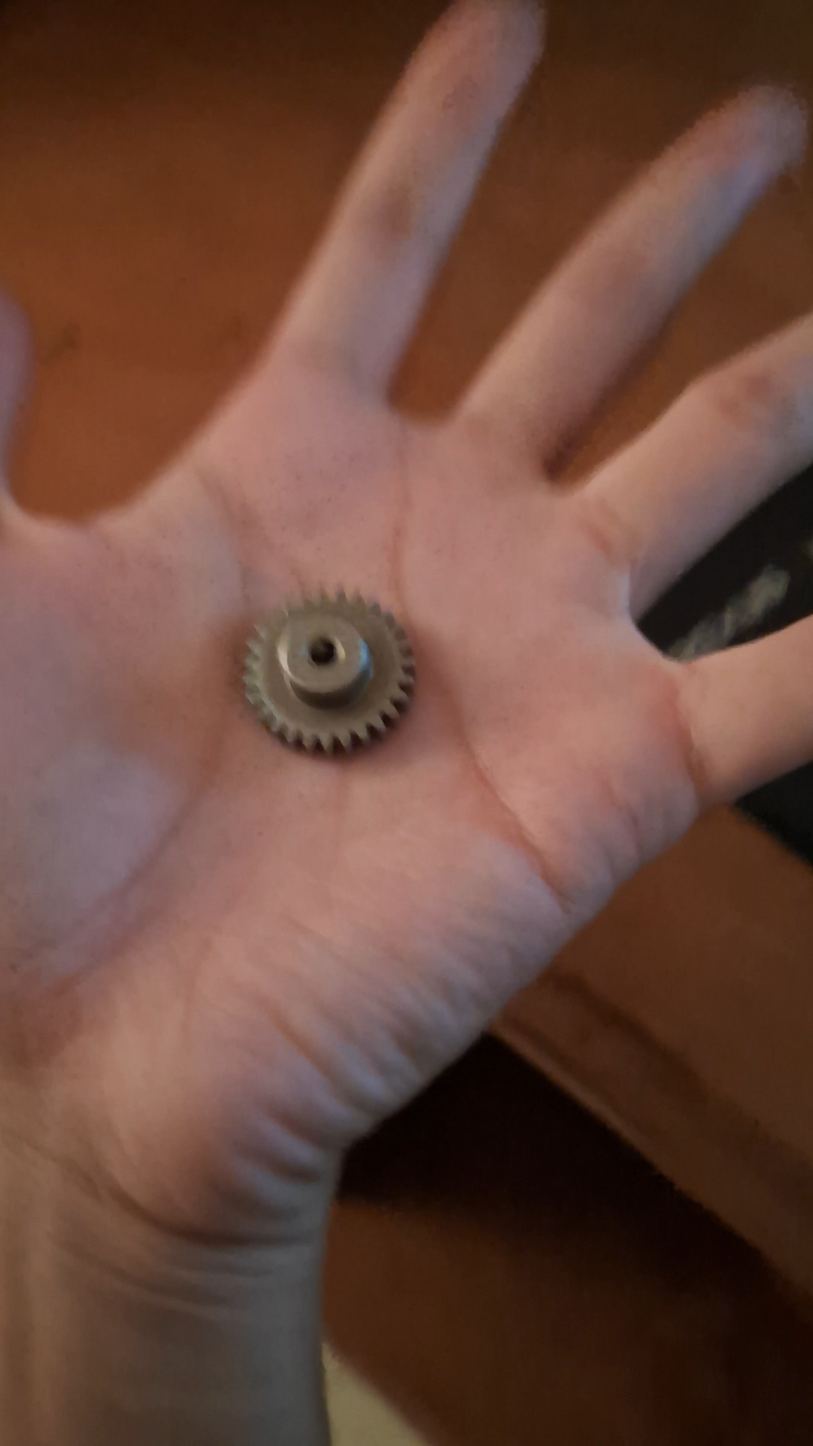spur gear: (243, 590, 415, 753)
